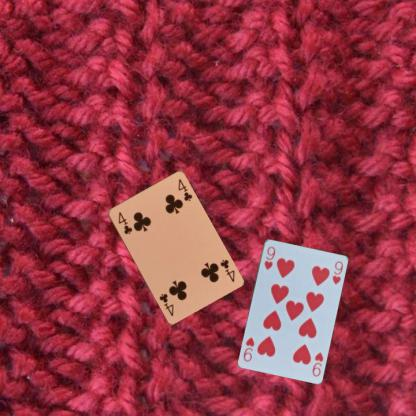4c: (217, 257, 236, 283), (116, 209, 134, 236)
9h: (310, 349, 324, 377), (262, 244, 276, 271)
